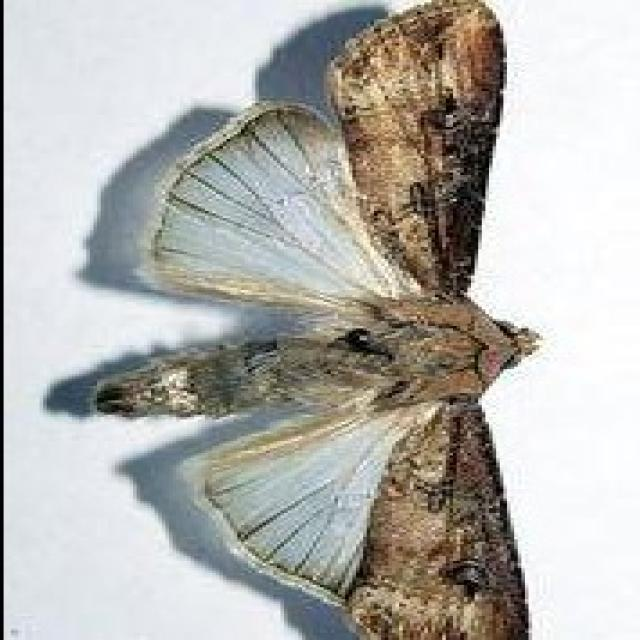black cutworm: (53, 8, 553, 640)
